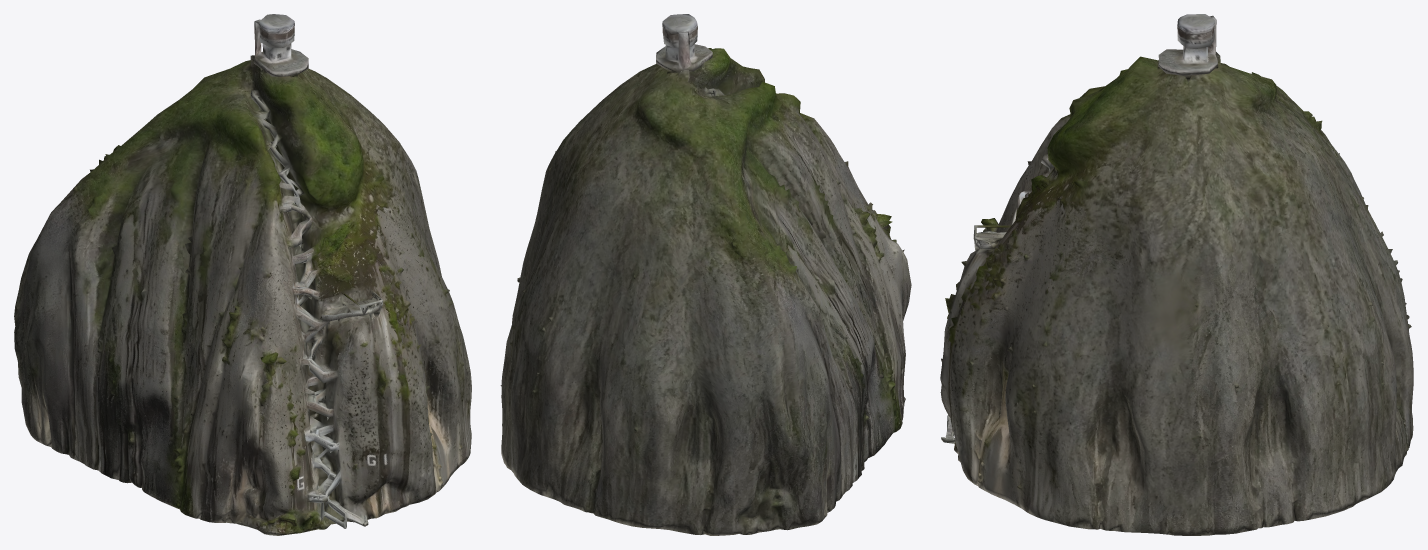
File: penol.glb
3 views of the same model, side by side, from view 1: azimuth 30°, elevation 25°; view 2: azimuth 150°, elevation 25°; view 3: azimuth 270°, elevation 25° (orthographic). The views are drawn at different scales.
Visible parts, largest first — view 1: tripo_node_362c9c29-2c75-4f27-9b01-941ab2cb70d6; view 2: tripo_node_362c9c29-2c75-4f27-9b01-941ab2cb70d6; view 3: tripo_node_362c9c29-2c75-4f27-9b01-941ab2cb70d6.
Part boxes in pixels (left/top/right/bottom): tripo_node_362c9c29-2c75-4f27-9b01-941ab2cb70d6: left=14, top=14, right=471, bottom=535; tripo_node_362c9c29-2c75-4f27-9b01-941ab2cb70d6: left=500, top=14, right=911, bottom=535; tripo_node_362c9c29-2c75-4f27-9b01-941ab2cb70d6: left=940, top=14, right=1413, bottom=535.
Size of the model in its own units: 0.867 by 0.9759 by 0.953.
Materials: 1 (1 with a texture image).
